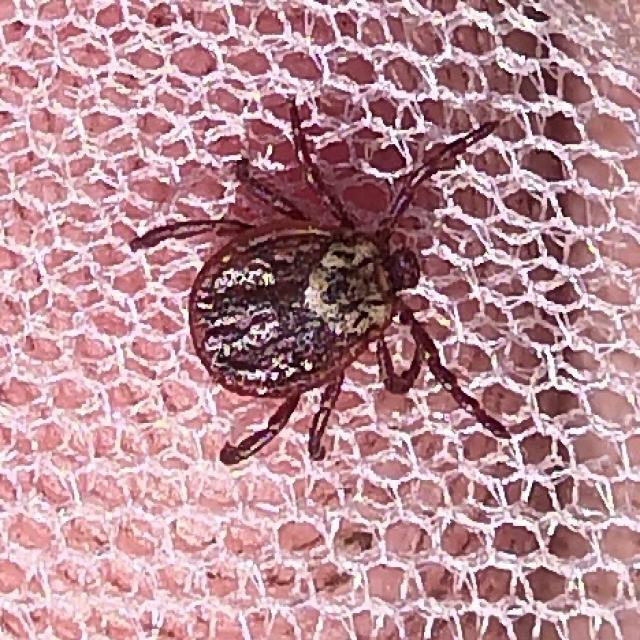Dermacentor Reticulatus-F: (130, 101, 510, 464)
